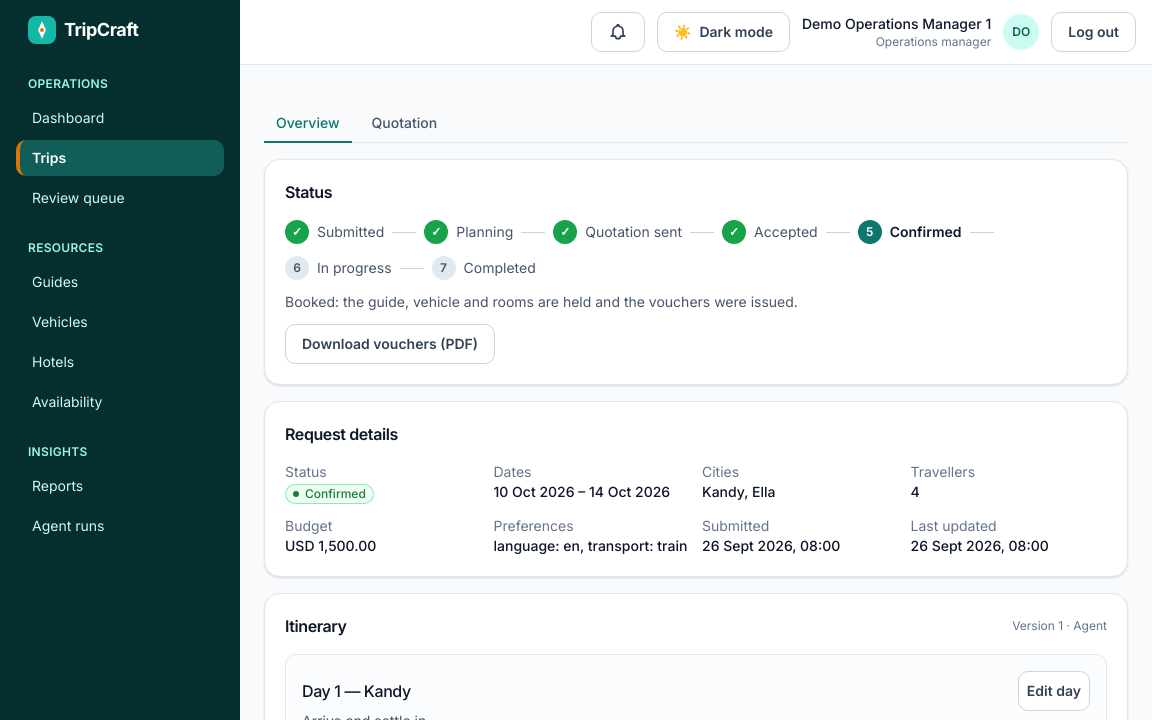
Test: Itinerary editor › shows the API field errors (400) inside the dialog
Click the button with aria-label "Edit day 1" at (1054, 691), box [1018,671,1090,711]
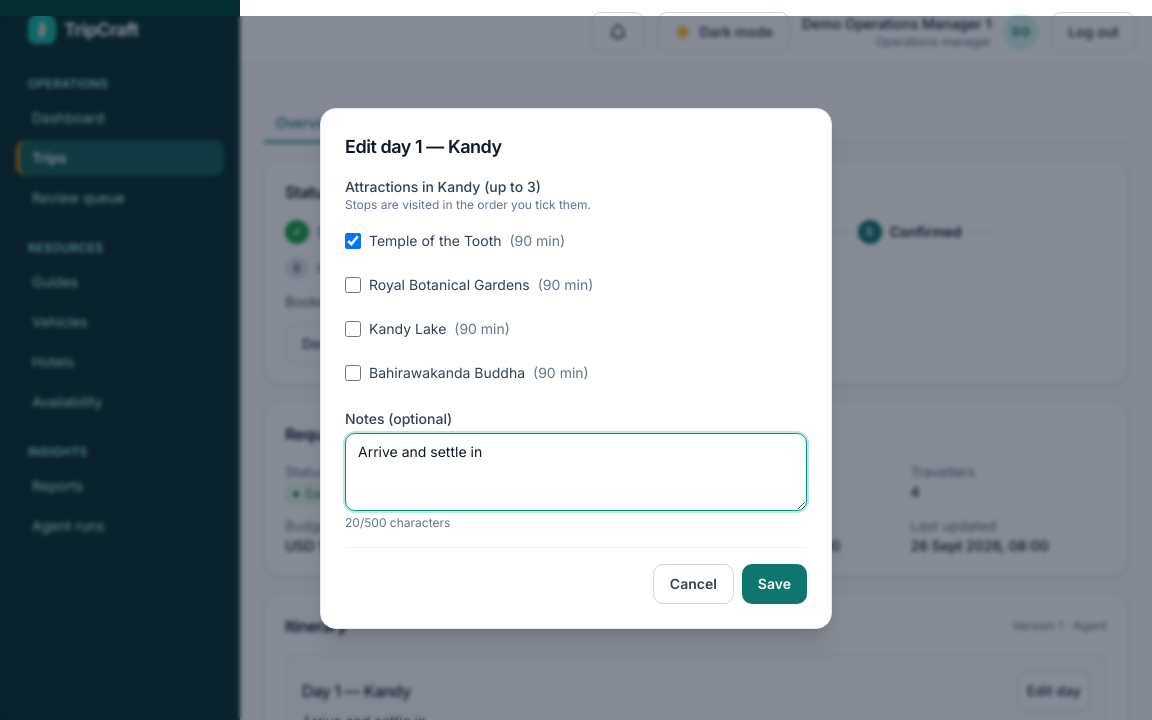
expect the checkbox labelled "Temple of the Tooth (90 min)" is shown: met, box [345,232,361,248]
Click the button "Save" at (774, 584), box [742,564,807,604]
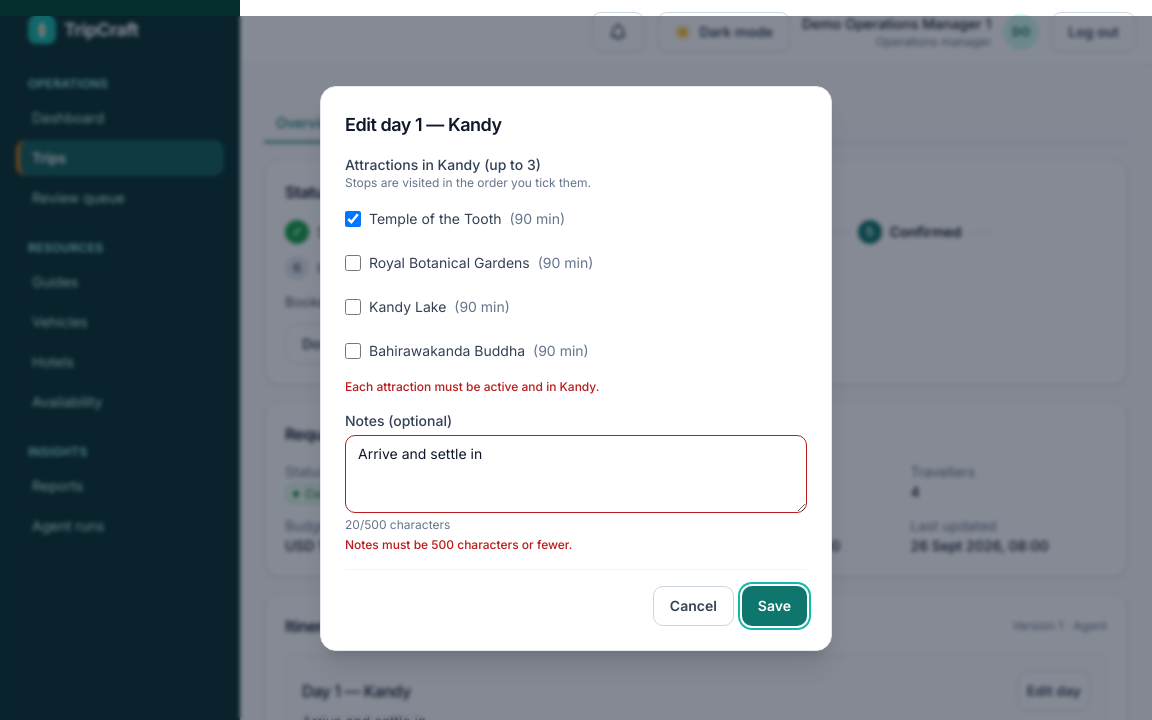
expect the text "Each attraction must be active and in Kandy." is shown: met, box [345,378,599,394]
expect the text "Notes must be 500 characters or fewer." is shown: met, box [345,536,572,552]
